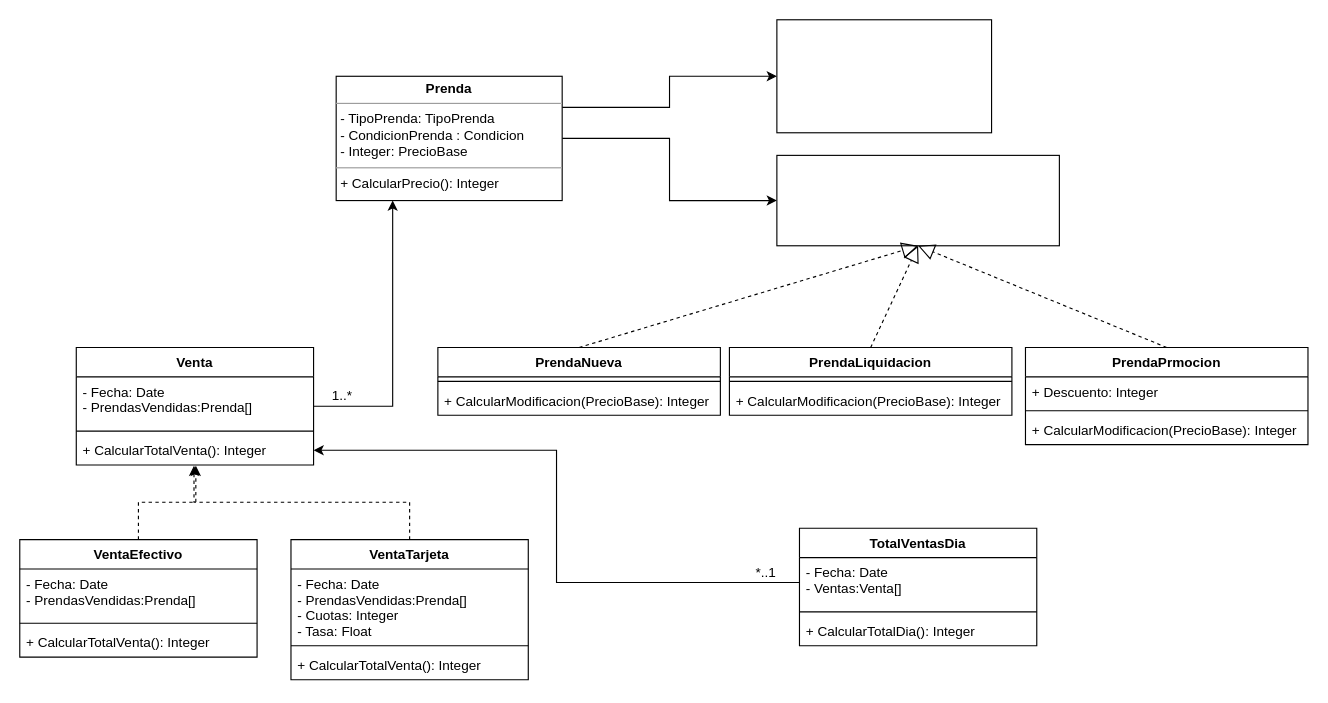
This 1328x703 diagram has some shape labels left out. The shapes that lost their labels are listed below. From the top down, each one's centre as x and y in pixels, then its label:
(884,76): <<Enumeration>> TipoPrenda + Saco + Pantalon + Camisa
(917,200): <<Interface>> CondicionPrenda + CalcularModificacion(PrecioBase): Integer
